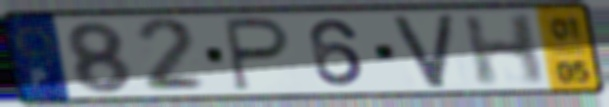2: (132, 15, 211, 97)
6: (306, 17, 369, 90)
8: (64, 19, 138, 96)
H: (459, 11, 548, 89)
P: (221, 14, 294, 94)
V: (388, 12, 459, 91)
